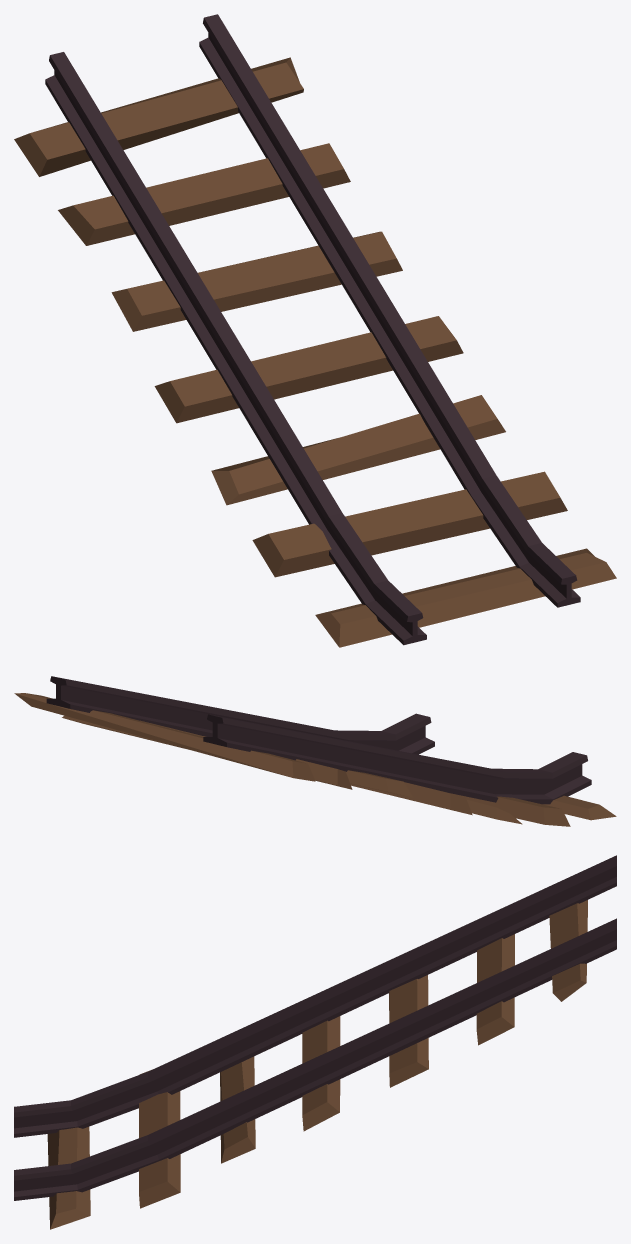
File: railway_up_03_style_01.fbx
The picture shows the model from 3 angles, top to bottom: view 1: azimuth 30°, elevation 25°; view 2: azimuth 150°, elevation 25°; view 3: azimuth 270°, elevation 25°; orthographic projection. The views are drawn at different scales.
Visible parts, largest first — view 1: up_03; view 2: up_03; view 3: up_03.
Part boxes in pixels (box(x1,y1,x2,y2)): up_03: box(14, 14, 616, 647); up_03: box(14, 676, 616, 826); up_03: box(14, 855, 616, 1229).
Bounding box in the file's own units: 155 × 167 × 326.
